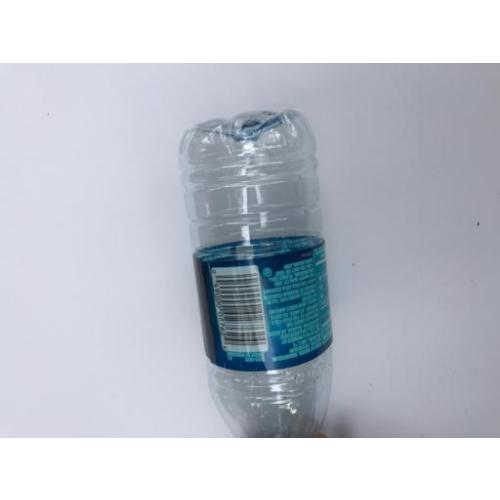plastic: (178, 108, 334, 438)
